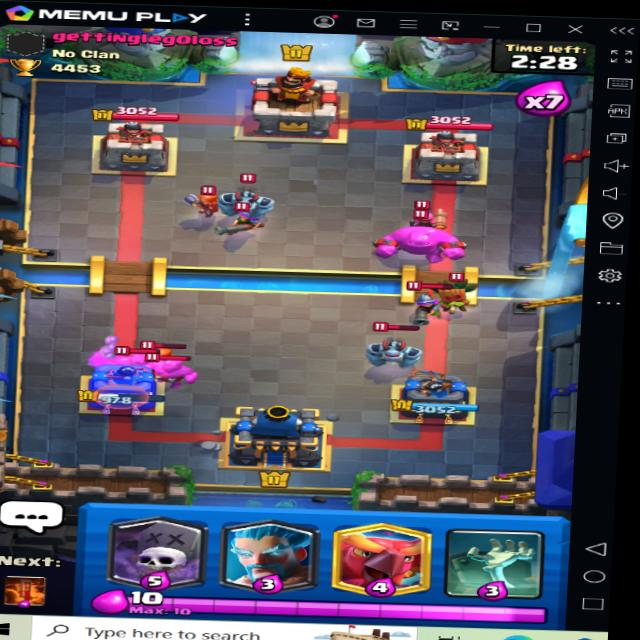dart-goblin: (411, 265, 483, 304)
electro-golem: (380, 214, 486, 265), (141, 349, 190, 391), (111, 339, 155, 368)
firecracker: (408, 200, 451, 231)
mega-minion: (362, 318, 429, 373), (222, 179, 283, 218)
musketeer: (403, 285, 461, 321), (219, 201, 267, 241)
valkyrie: (185, 184, 244, 217), (149, 336, 190, 363)
